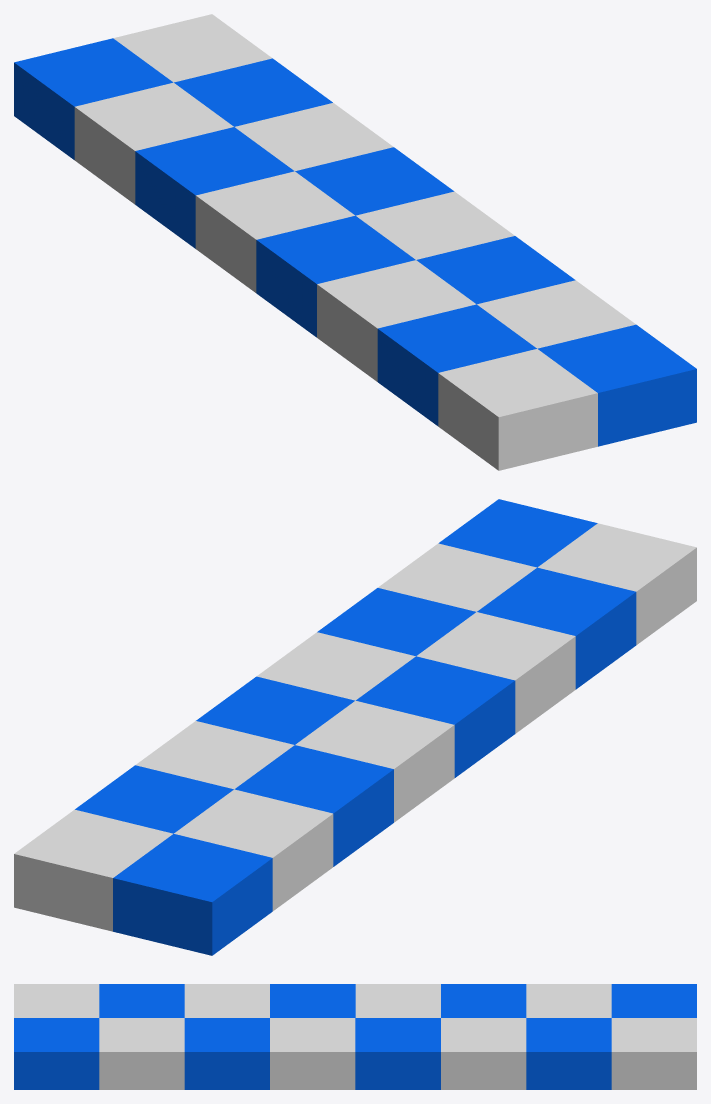
File: Check_Point.fbx
The picture shows the model from 3 angles, top to bottom: view 1: azimuth 30°, elevation 25°; view 2: azimuth 150°, elevation 25°; view 3: azimuth 270°, elevation 25°; orthographic projection. The views are drawn at different scales.
Parts seen in each view (by area): view 1: Cube.051; view 2: Cube.051; view 3: Cube.051.
Boxes of the visible parts, x1,y1,x2,y2 form: Cube.051: [14, 14, 696, 470]; Cube.051: [14, 499, 696, 955]; Cube.051: [14, 984, 696, 1089].
Size of the model in its own units: 74.17 by 19.19 by 314.
